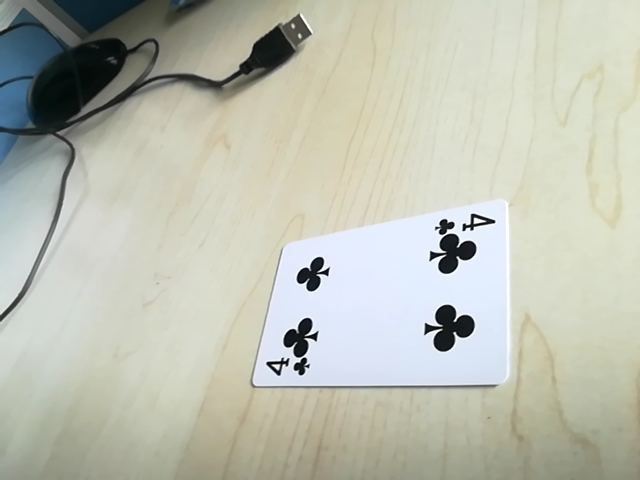mh 4: (430, 207, 498, 236), (257, 352, 315, 382)
